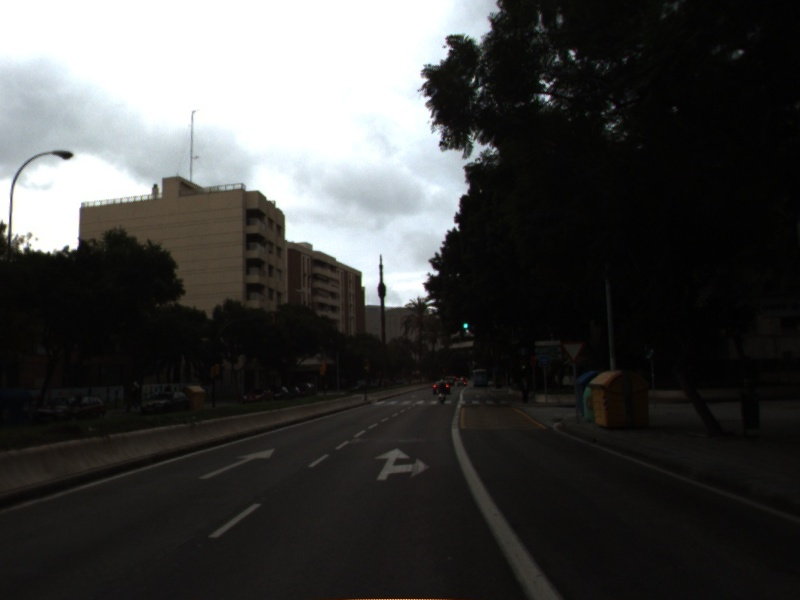STRAIGHT: (197, 446, 278, 481)
STRAIGHT_RIGHT: (372, 446, 432, 482)
